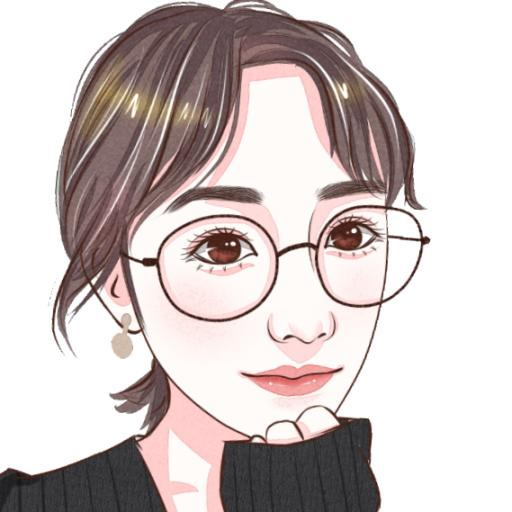NoHuman: (0, 10, 512, 512)
